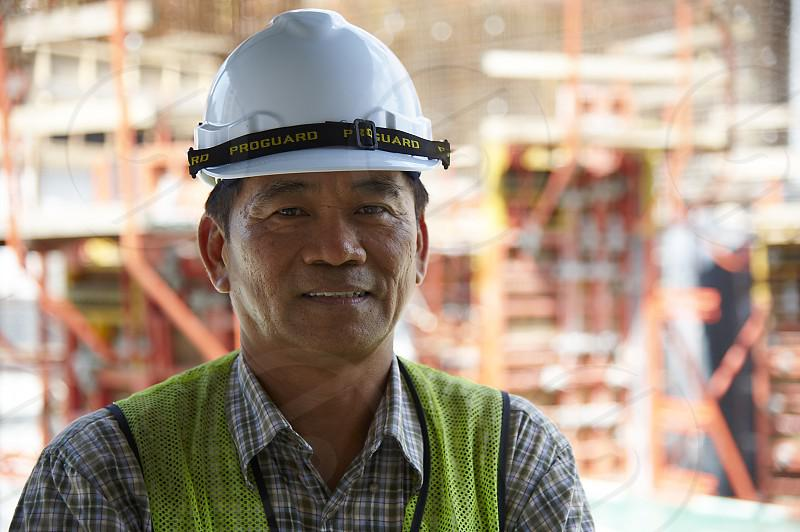hardhat: (189, 10, 455, 181)
worker: (9, 7, 597, 532)
